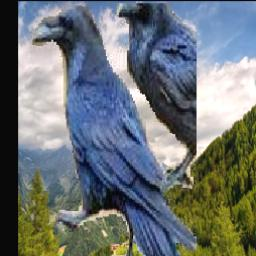Crow: (31, 3, 198, 256)
